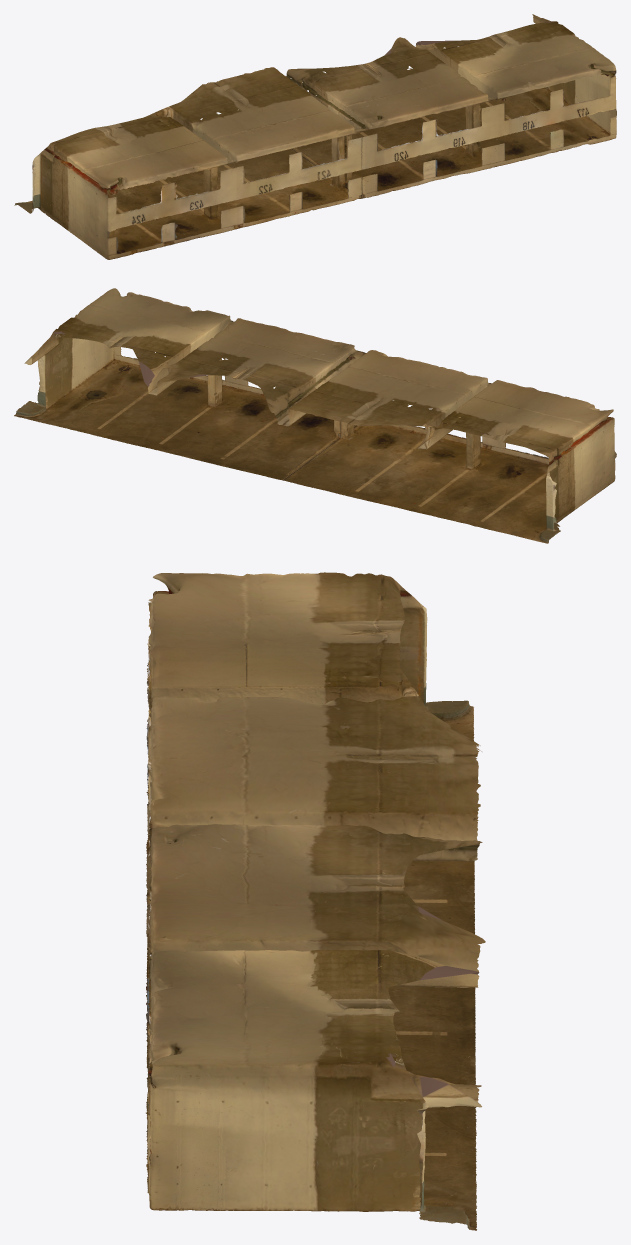
The model's file is parking_spots_in_garage.glb.
The picture shows the model from 3 angles, top to bottom: view 1: azimuth 30°, elevation 25°; view 2: azimuth 150°, elevation 25°; view 3: azimuth 270°, elevation 25°; orthographic projection. The views are drawn at different scales.
Visible parts, largest first — view 1: Object_4, Object_6, Object_2, Object_7, Object_5, Object_3; view 2: Object_6, Object_3, Object_4, Object_2, Object_5, Object_7; view 3: Object_4, Object_7, Object_6, Object_2, Object_3, Object_5.
Part boxes in pixels (x1,y1,x2,y2): Object_4: [16, 17, 616, 258]; Object_6: [39, 18, 615, 252]; Object_2: [15, 15, 616, 259]; Object_7: [17, 18, 616, 251]; Object_5: [33, 14, 616, 253]; Object_3: [14, 22, 609, 259]; Object_6: [16, 312, 612, 539]; Object_3: [31, 290, 616, 543]; Object_4: [23, 288, 616, 541]; Object_2: [22, 288, 614, 543]; Object_5: [14, 288, 606, 537]; Object_7: [23, 292, 614, 538]; Object_4: [146, 572, 478, 1221]; Object_7: [146, 572, 478, 1219]; Object_6: [146, 573, 478, 1227]; Object_2: [146, 572, 484, 1222]; Object_3: [147, 618, 477, 1211]; Object_5: [146, 577, 485, 1230].
Bounding box in the file's own units: 19.14 × 2.63 × 5.28.
2 materials, 2 textured.
